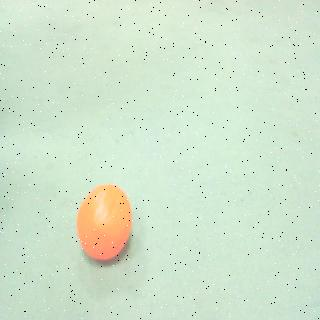orange: (74, 180, 134, 267)
